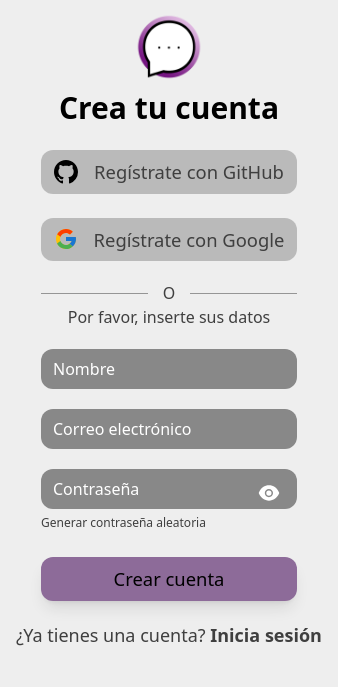
it: Register › check if password are secure if the user click in generate password button
Click the button "Generar contraseña aleatoria" at point(123, 523), box [41,515,206,531]
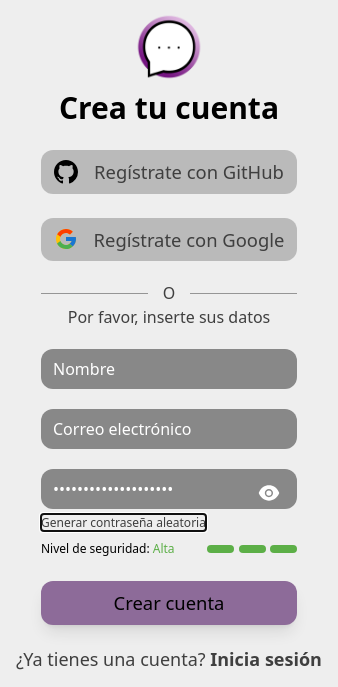
Expected: the password field with placeholder "Contraseña" is not empty, [41,469,297,509]
Expected: the text "Alta" is shown, [153,540,175,557]
